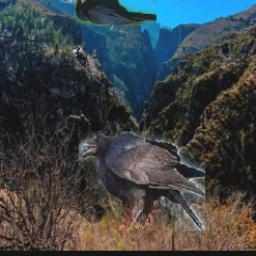Crow: (79, 132, 205, 231), (76, 0, 158, 26), (99, 89, 132, 139)
Woodpecker: (70, 43, 102, 83)
